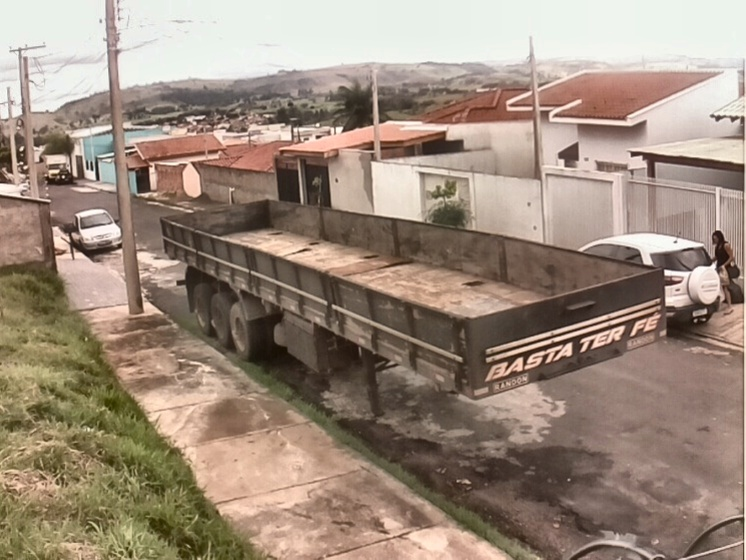person: (709, 229, 739, 316)
